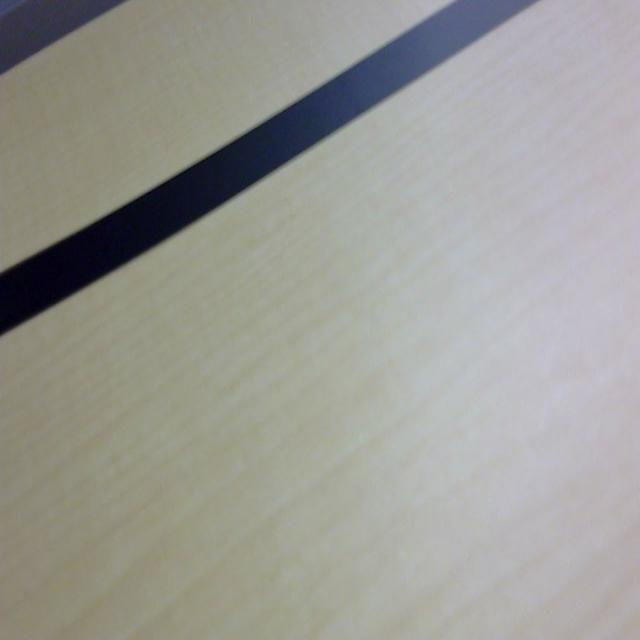tape: (0, 0, 544, 367)
